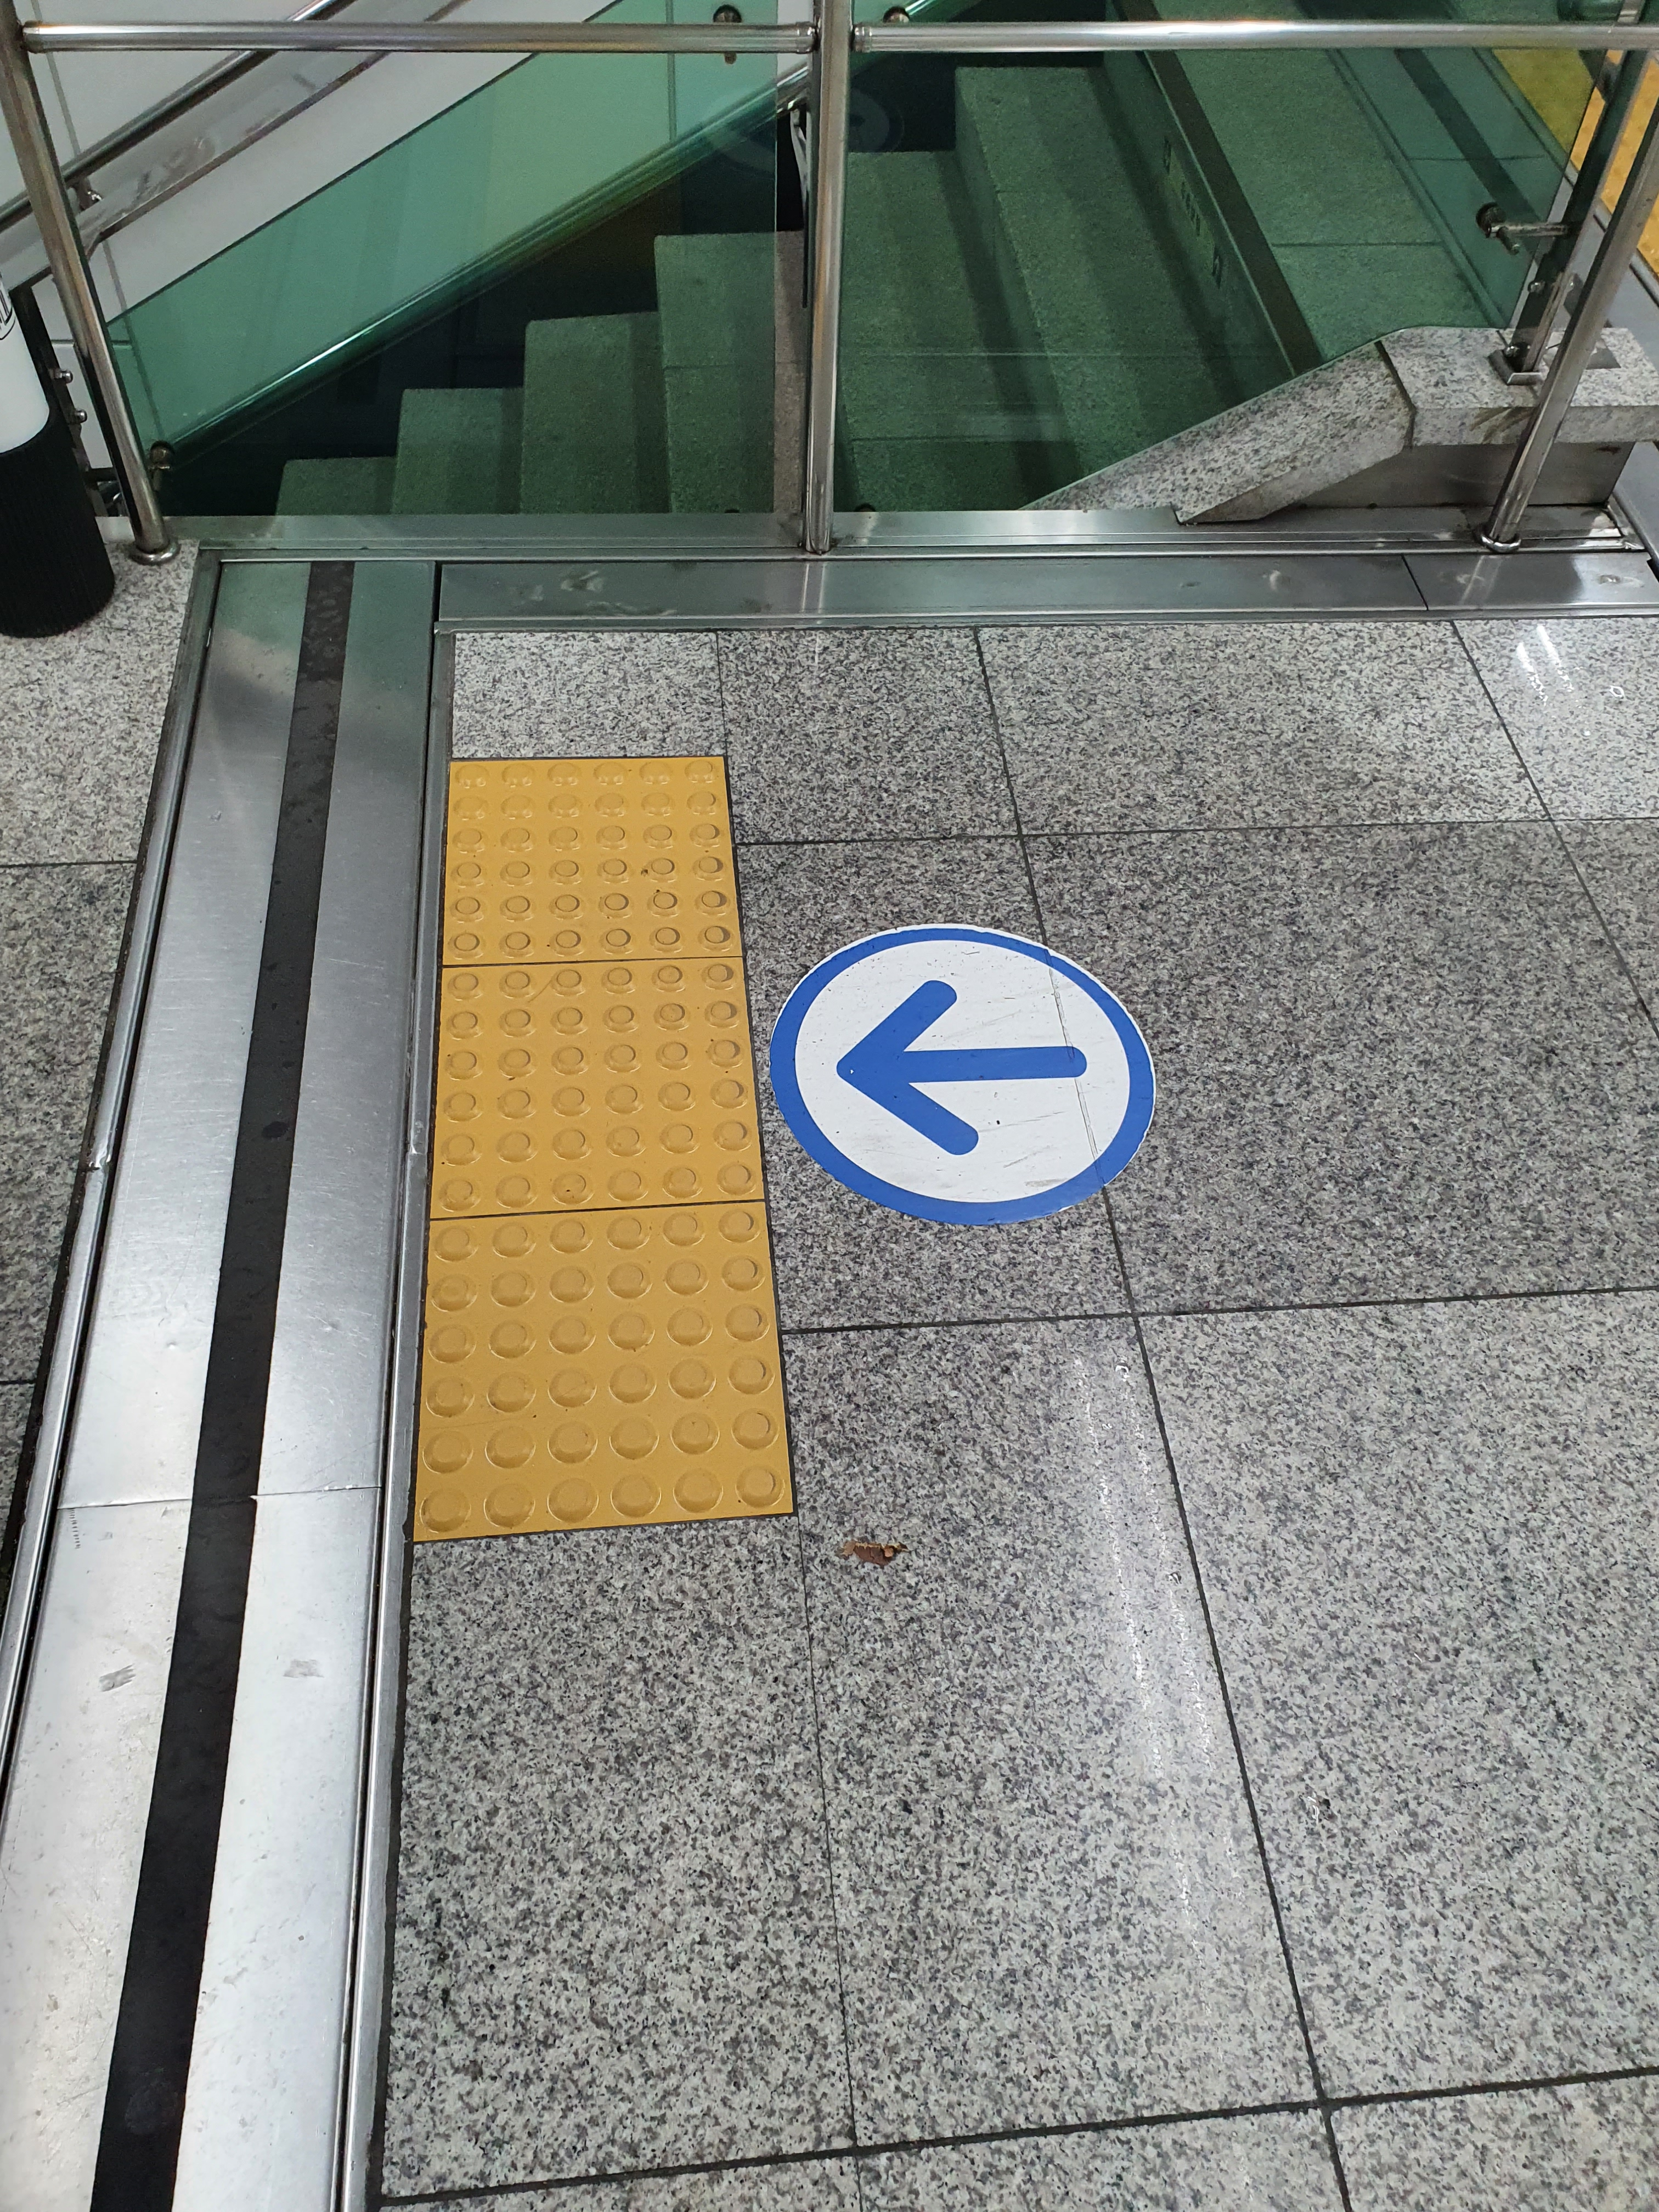warningBlock: (420, 1202, 779, 1534), (448, 956, 748, 1198), (434, 745, 725, 984)
